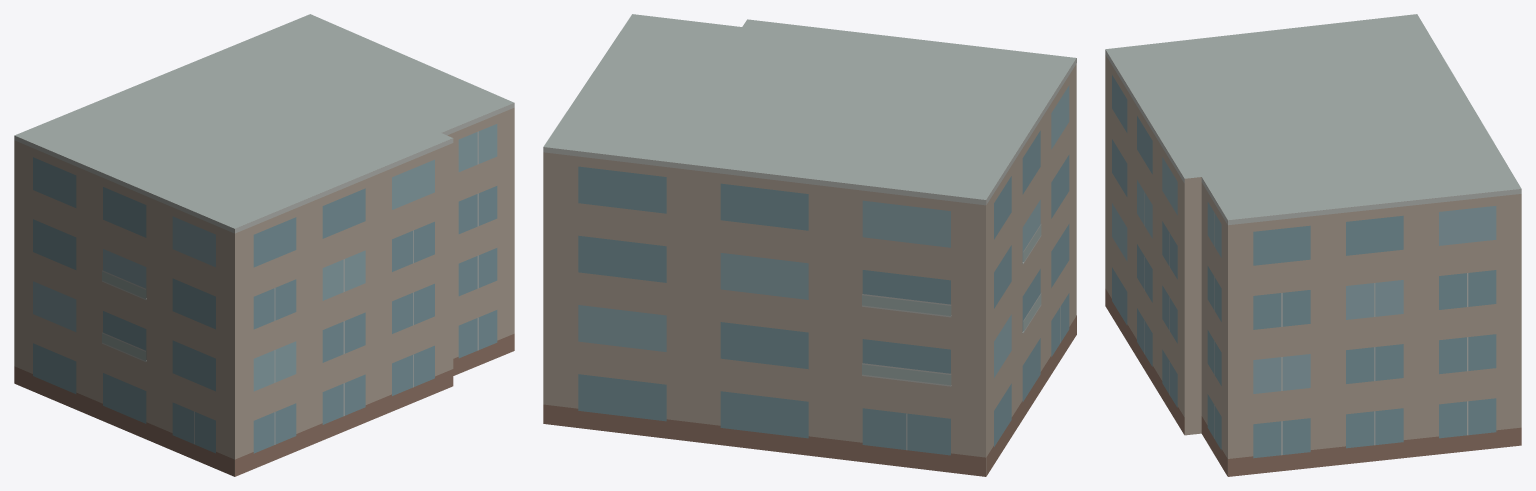
File: survey-upis-33042089.glb
3 renders of one model, left to right at view 1: azimuth 30°, elevation 25°; view 2: azimuth 150°, elevation 25°; view 3: azimuth 270°, elevation 25°, orthographic. The views are drawn at different scales.
Parts seen in each view (by area): view 1: survey-upis-33042089.tmp; view 2: survey-upis-33042089.tmp; view 3: survey-upis-33042089.tmp.
Boxes of the visible parts, x1=… form: survey-upis-33042089.tmp: x1=14, y1=14, x2=514, y2=476; survey-upis-33042089.tmp: x1=543, y1=14, x2=1076, y2=476; survey-upis-33042089.tmp: x1=1105, y1=14, x2=1521, y2=476.
Size of the model in its own units: 21.82 by 12.65 by 18.61.
